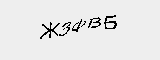Б: (103, 12, 119, 34)
В: (87, 15, 103, 31)
Ж: (39, 17, 59, 44)
З: (59, 19, 74, 41)
Ф: (71, 16, 86, 36)
